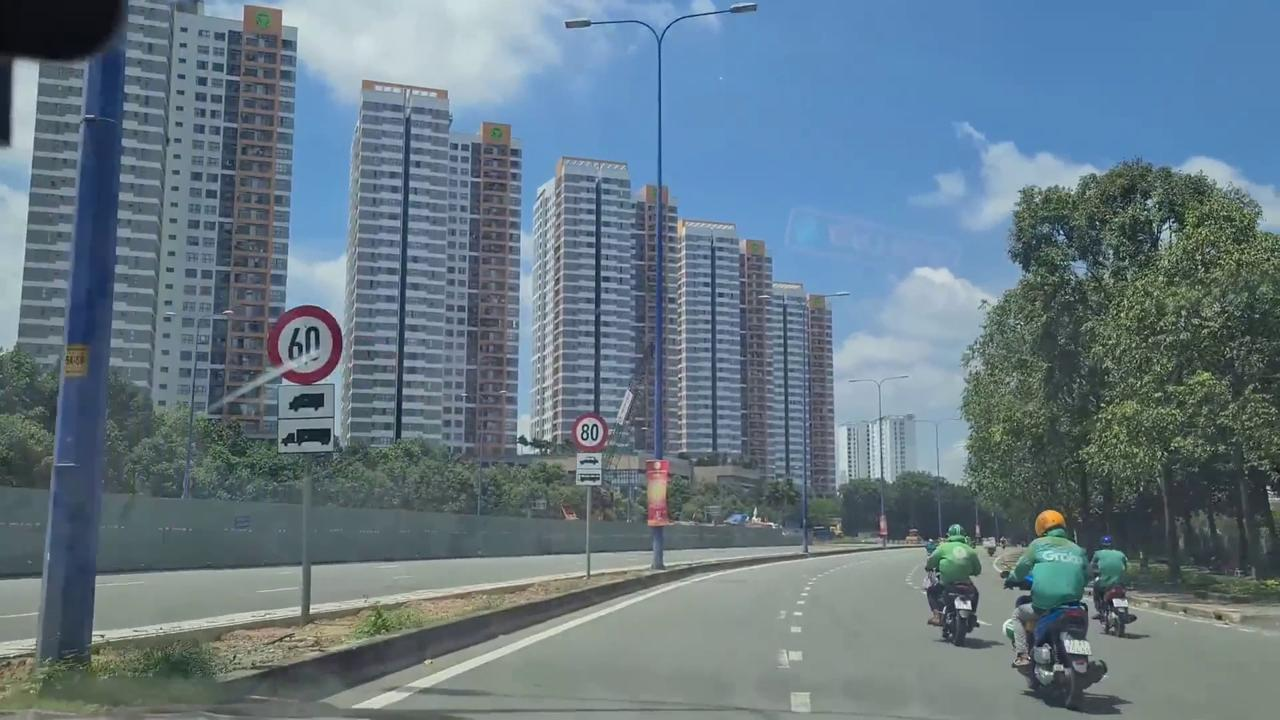Biển phụ: (276, 383, 336, 452), (576, 452, 603, 486)
GIơi hạn tốc độ 60Km/h: (266, 302, 345, 386)
Giới hạn tốc độ 80Km/h: (572, 412, 609, 452)
